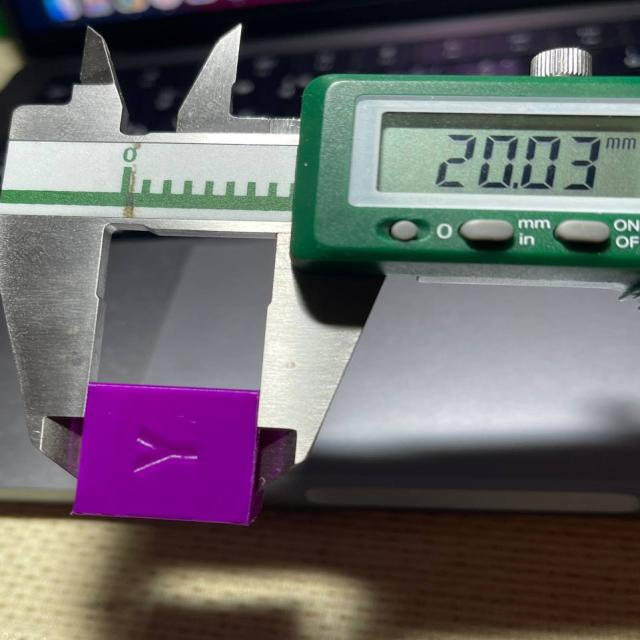Without deffect: (58, 378, 272, 538)
